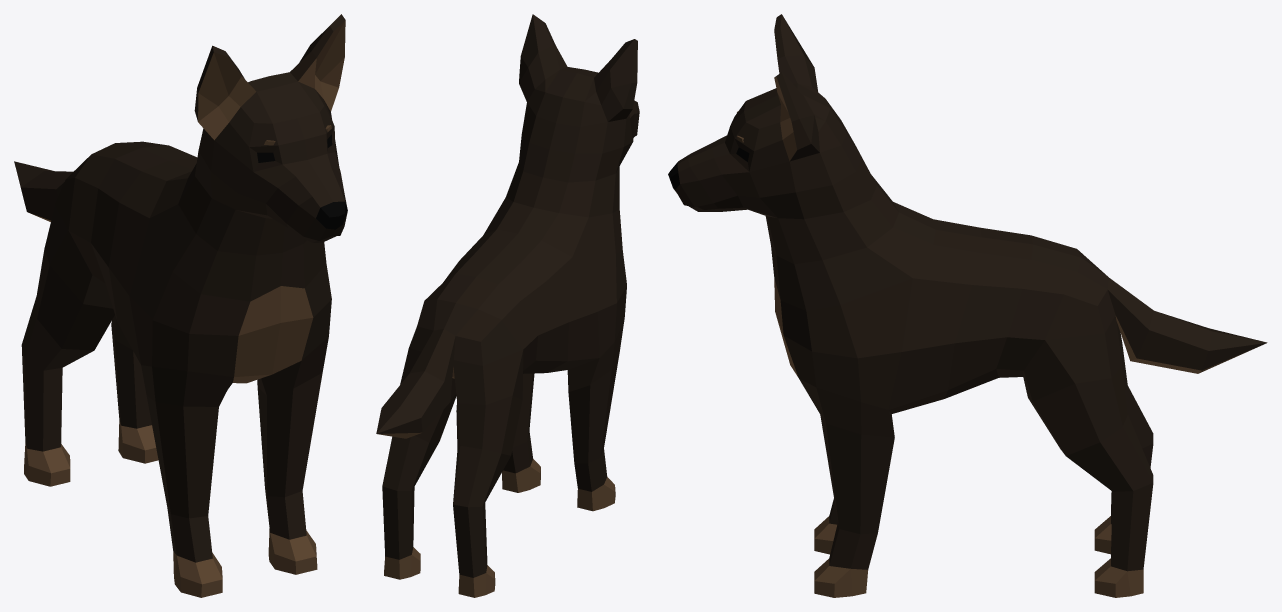
The model's file is MARLEY.glb.
The picture shows the model from 3 angles, left to right: view 1: azimuth 30°, elevation 25°; view 2: azimuth 150°, elevation 25°; view 3: azimuth 270°, elevation 25°; orthographic projection. The views are drawn at different scales.
Visible parts, largest first — view 1: Low poly dog; view 2: Low poly dog; view 3: Low poly dog.
Boxes of the visible parts, left/top/right/bottom form: Low poly dog: left=14, top=14, right=347, bottom=597; Low poly dog: left=376, top=14, right=639, bottom=597; Low poly dog: left=668, top=14, right=1267, bottom=597.
Size of the model in its own units: 0.242 by 0.7887 by 0.8179.
